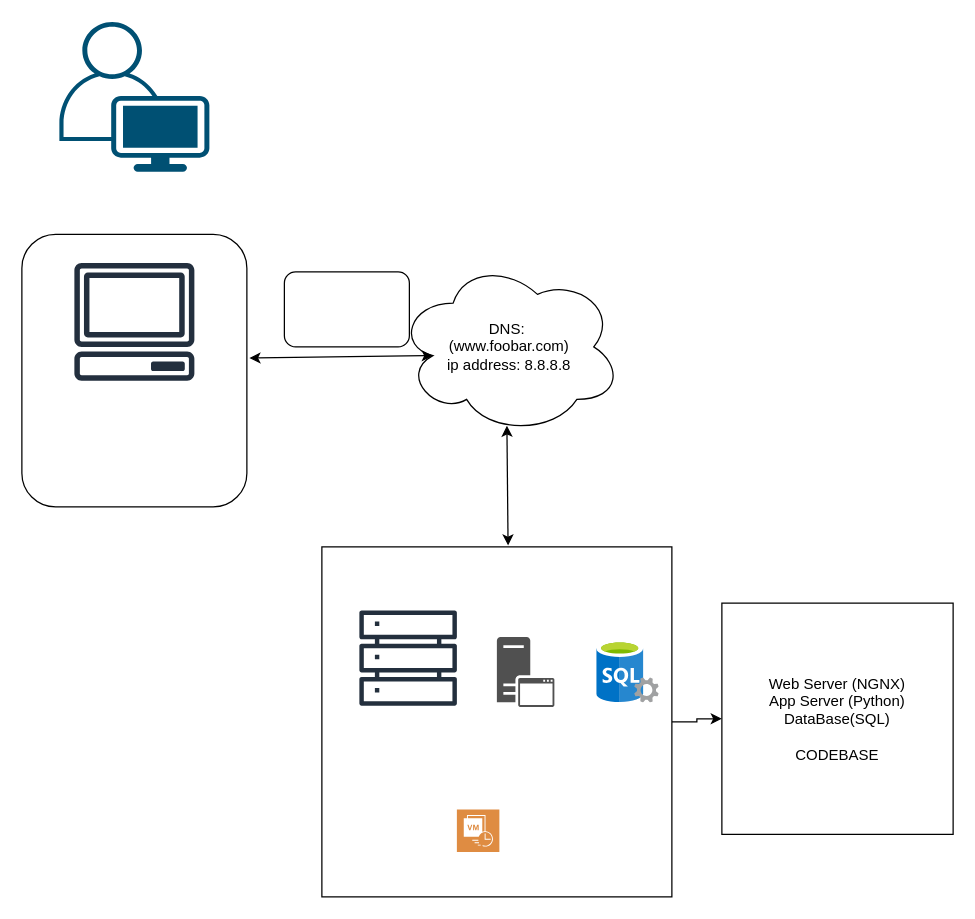
The diagram is 975 pixels wide and 919 high, and some of its shapes have lost their labels. Each missing label, with the centre of its shape:
"http:\\" belongs at [346,309].
"www.foobar.com" belongs at [133,321].
